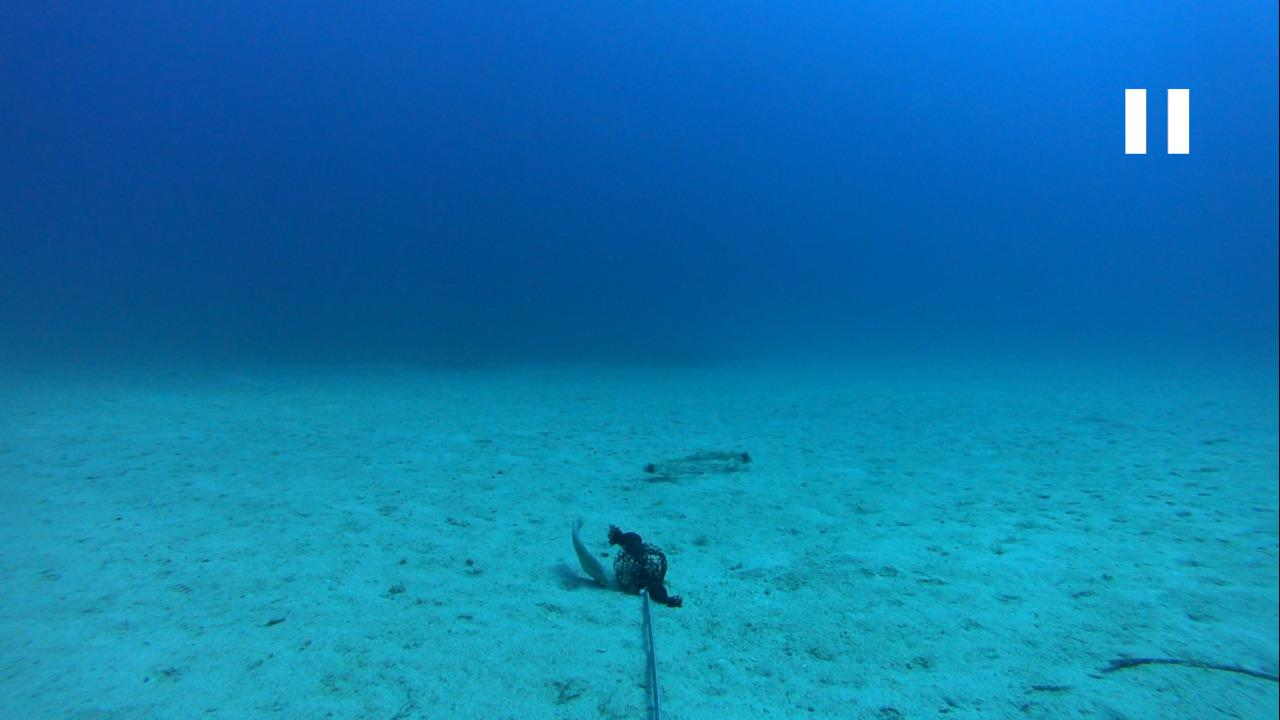dactylopterus: (626, 455, 708, 492), (675, 439, 757, 475)
raor: (553, 511, 616, 590)
